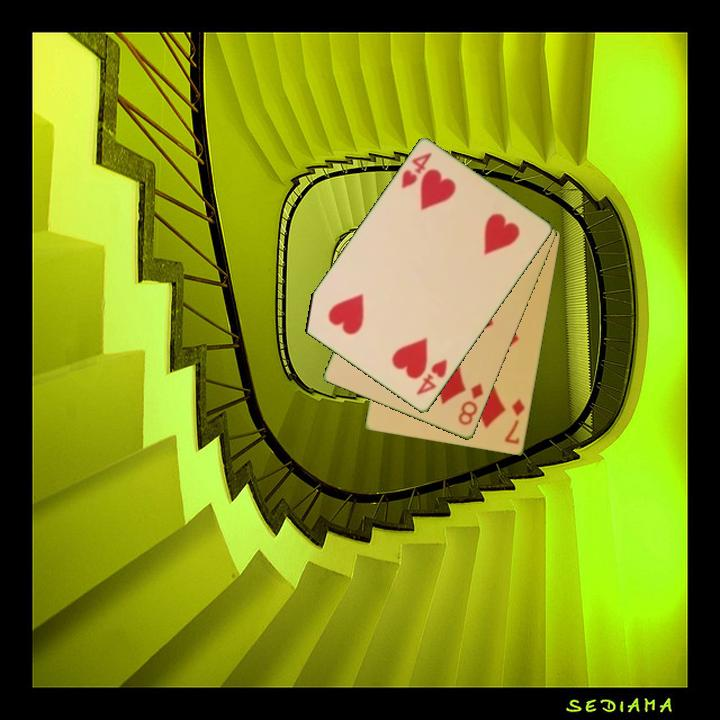4h: (413, 356, 450, 399), (398, 150, 435, 192)
7d: (501, 395, 528, 448)
8d: (454, 379, 486, 429)
